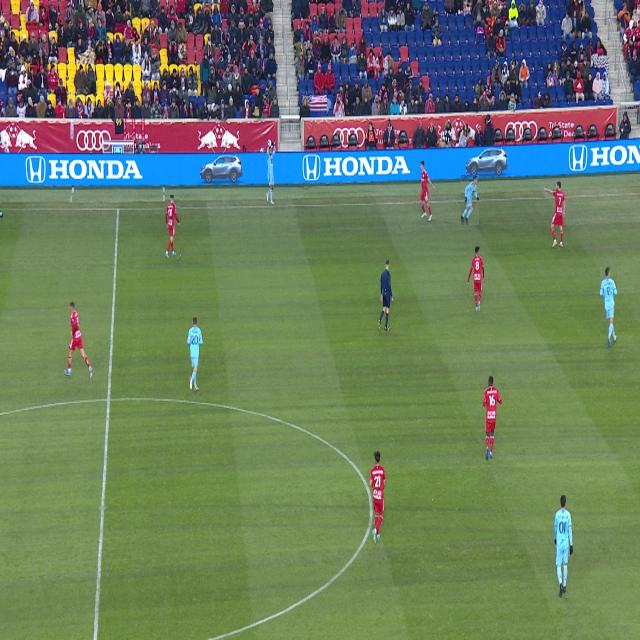player: (64, 302, 93, 380), (554, 495, 573, 598), (483, 376, 502, 460), (369, 451, 386, 543), (543, 181, 565, 247), (600, 267, 617, 348), (187, 316, 203, 392), (468, 247, 484, 312), (419, 161, 436, 221), (461, 175, 479, 225), (166, 195, 180, 258), (0, 212, 3, 218)
referee: (378, 259, 393, 331)
